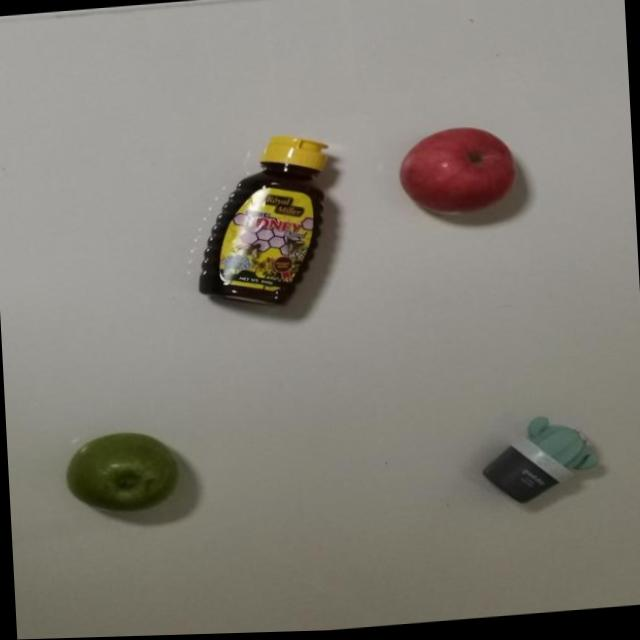Apple: (380, 119, 521, 230), (58, 421, 176, 518)
